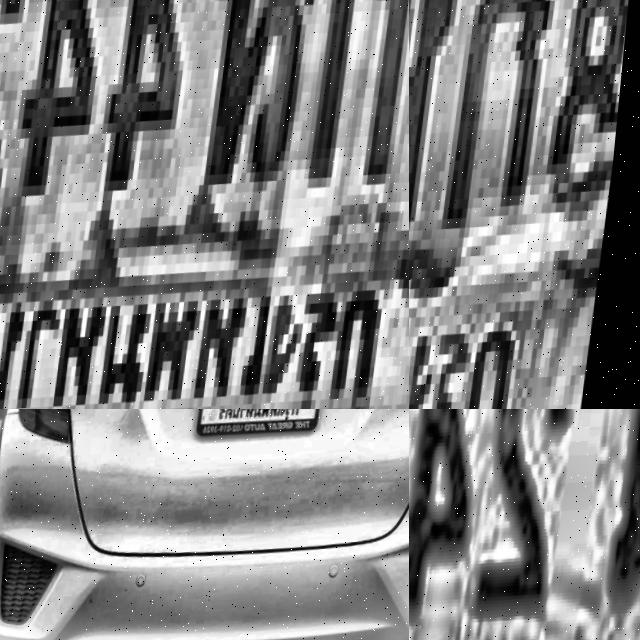license-plate: (0, 0, 409, 409), (409, 0, 640, 409), (409, 409, 640, 640), (201, 409, 336, 449)
